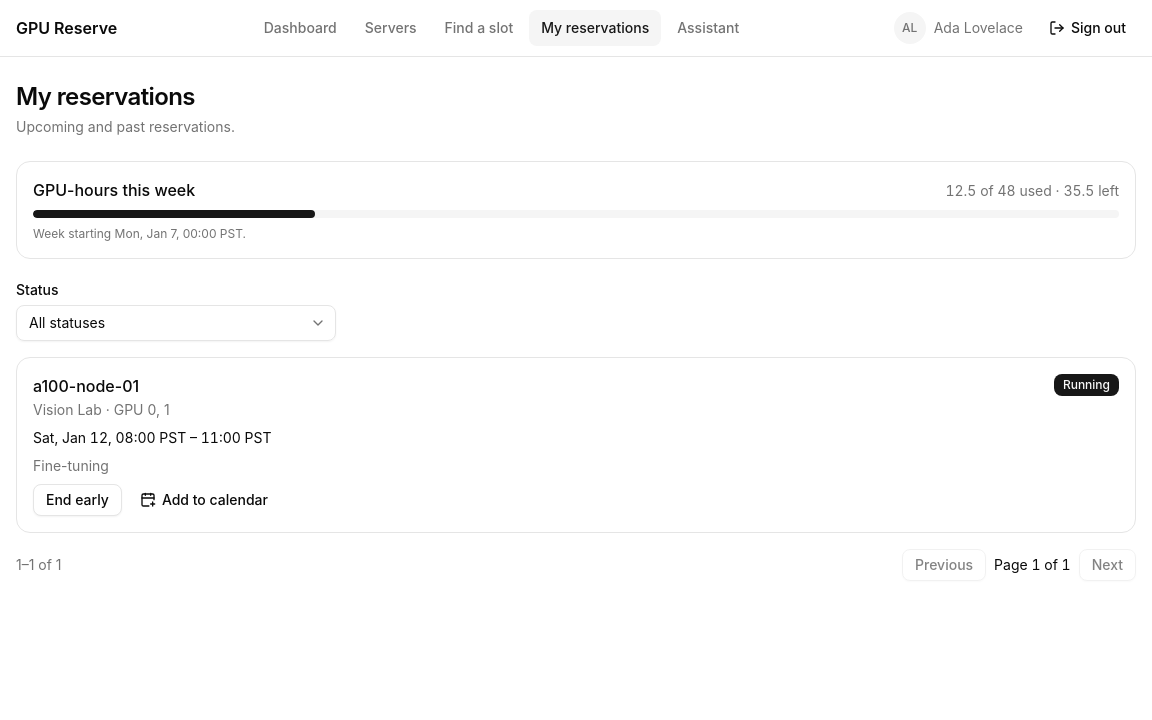
it: my reservations page › offers to end a running reservation early, naming the new end
Step 1. Click the button "End early" → (77, 500), box 33,484 -> 122,516
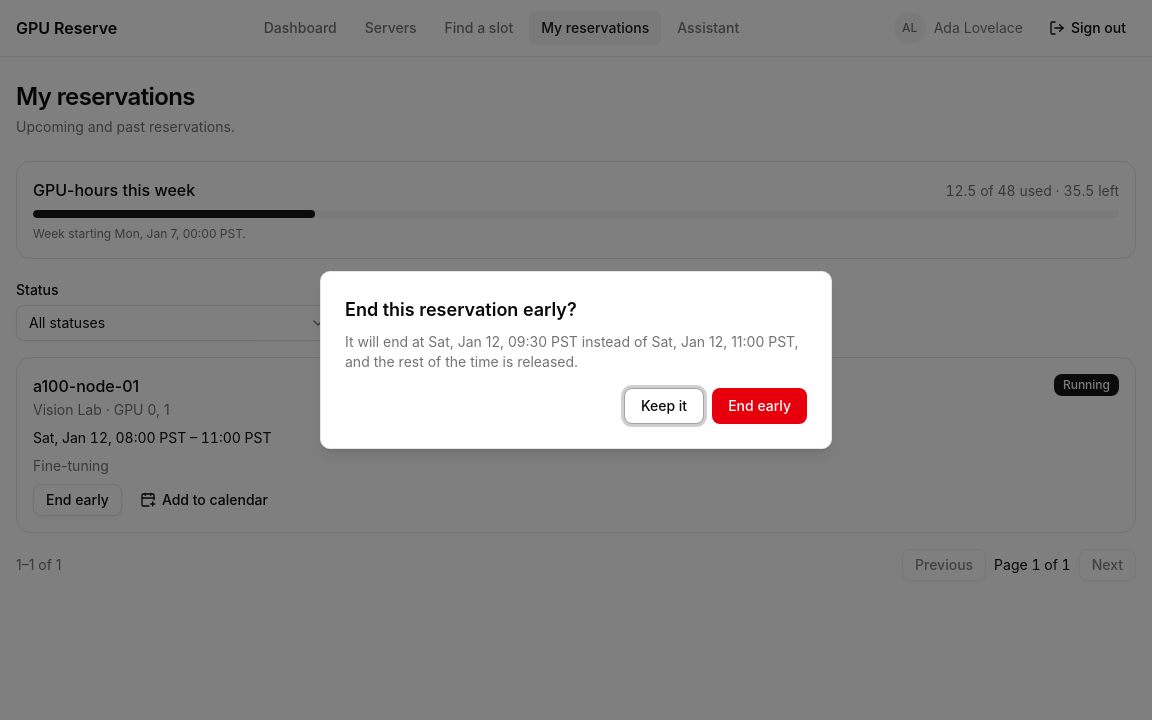
Expected: the dialog "End this reservation early?" shows "It will end at Sat, Jan 12, 09:30 PST instead of Sat, Jan 12, 11:00 PST", 345,333 -> 799,370
Step 2. Click the button "End early" → (760, 406), box 712,388 -> 807,424
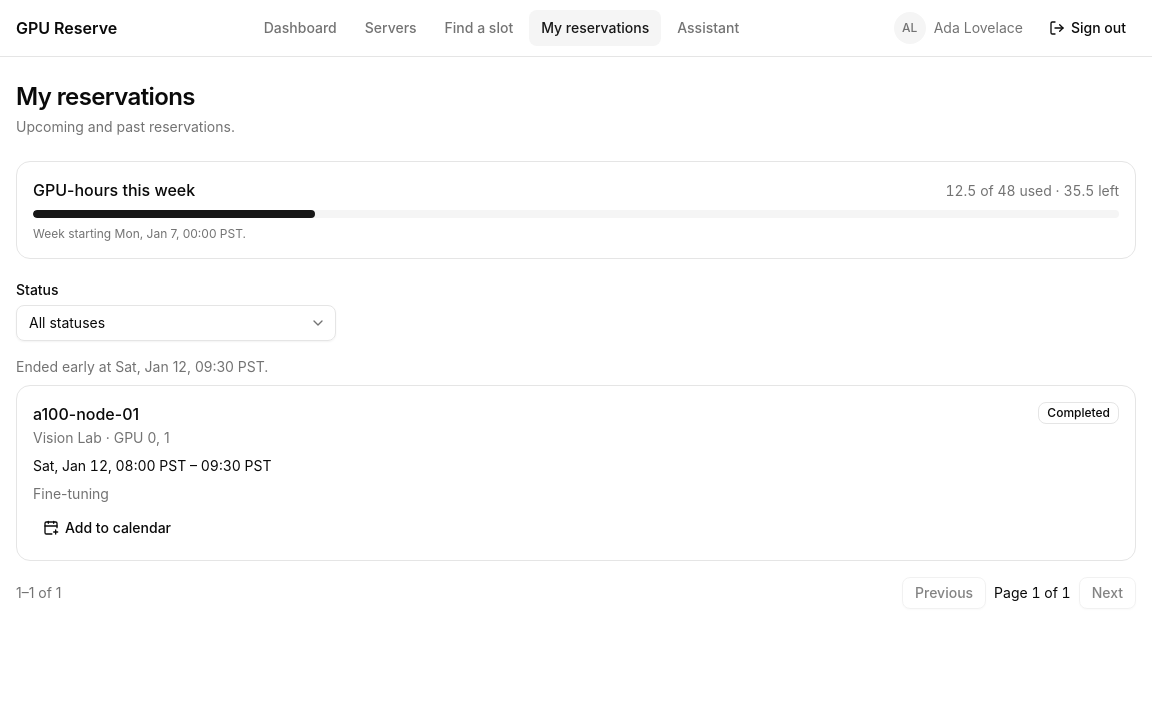
Expected: the text "Ended early at Sat, Jan 12, 09:30 PST." is shown, 16,358 -> 268,375
